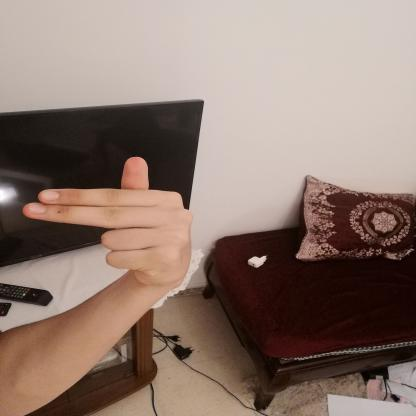GHAYN: (12, 149, 201, 300)
